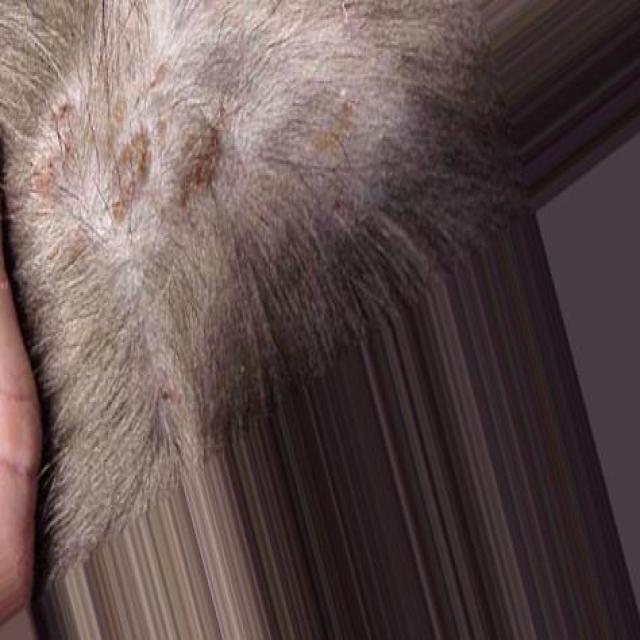di ung bo chet: (0, 0, 463, 293)
